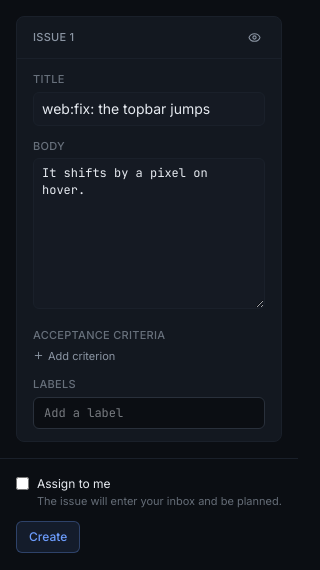
DraftPane toasts › stays quiet when the tracker rejects the issue
Click the button "Create".
click(48, 537)  # box [16,521,80,553]
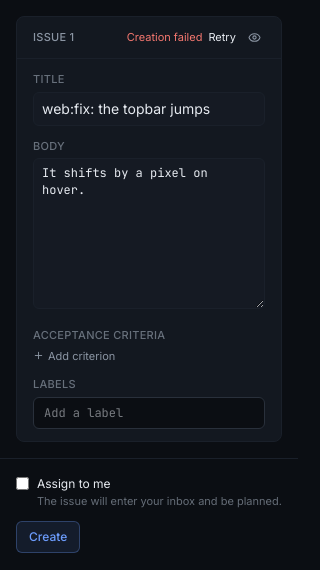
expect the text "Creation failed" is shown: met, box [127,29,202,46]
